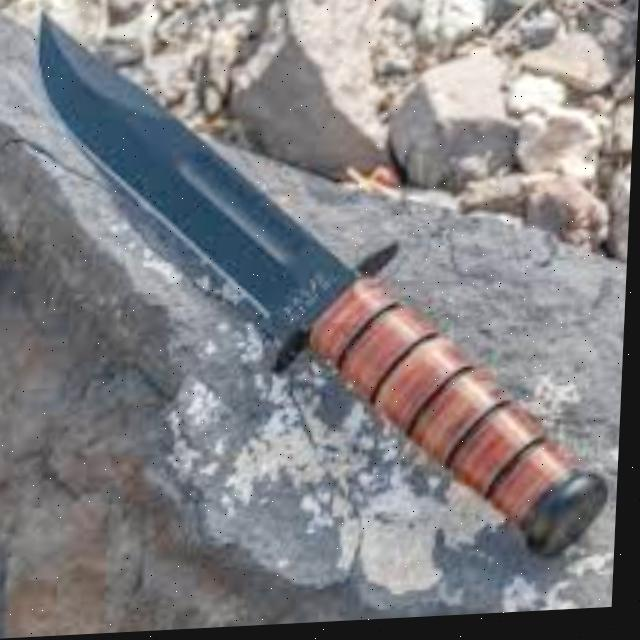Knife: (15, 0, 630, 585)
